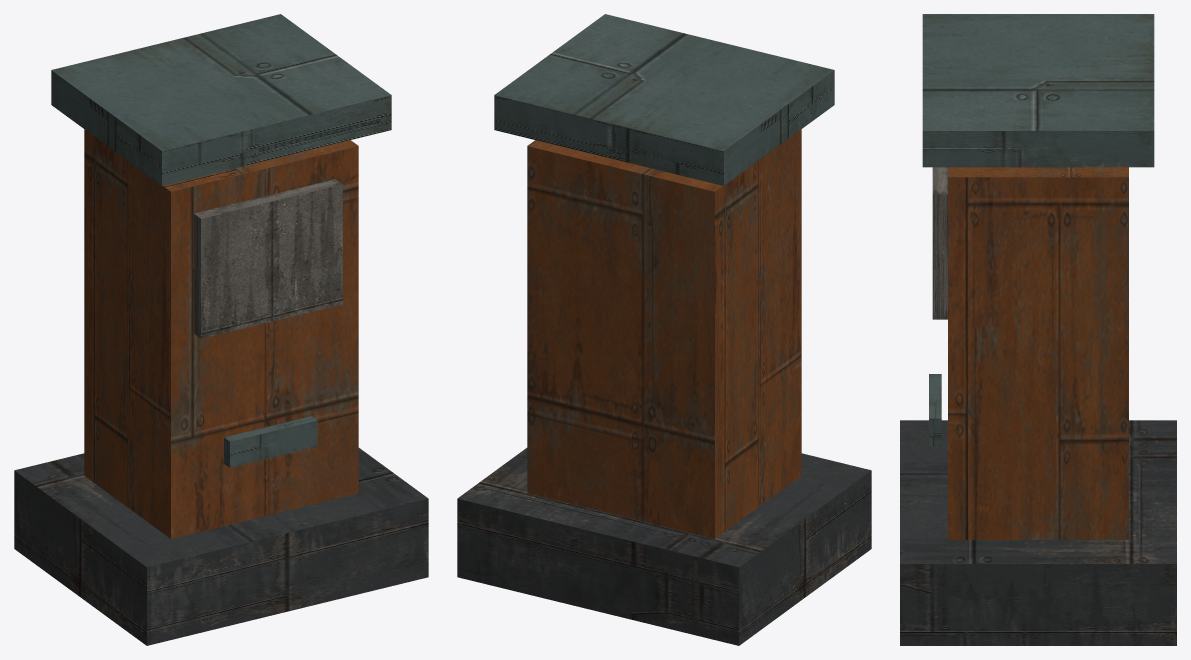
File: relay-terminal.gltf
The picture shows the model from 3 angles, left to right: view 1: azimuth 30°, elevation 25°; view 2: azimuth 150°, elevation 25°; view 3: azimuth 270°, elevation 25°; orthographic projection. The views are drawn at different scales.
Parts seen in each view (by area): view 1: relay-terminal; view 2: relay-terminal; view 3: relay-terminal.
Part boxes in pixels (box(x1,y1,x2,y2)): relay-terminal: box(14, 14, 428, 645); relay-terminal: box(457, 14, 871, 645); relay-terminal: box(900, 14, 1176, 645).
Bounding box in the file's own units: 1.35 × 2.2 × 1.1.
1 material, 1 textured.
